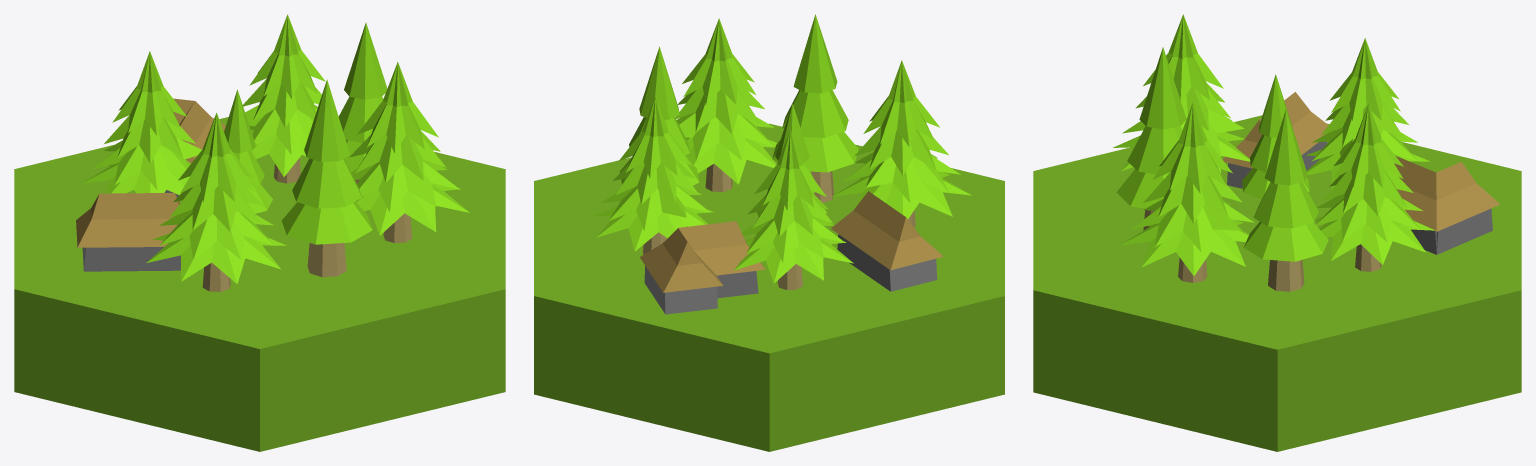
File: Casas_Bosque_Pinos_2.fbx
3 renders of one model, left to right at view 1: azimuth 30°, elevation 25°; view 2: azimuth 150°, elevation 25°; view 3: azimuth 270°, elevation 25°, orthographic. The views are drawn at different scales.
Parts seen in each view (by area): view 1: Casas_Bosque_Pinos_2; view 2: Casas_Bosque_Pinos_2; view 3: Casas_Bosque_Pinos_2.
Boxes of the visible parts, box(x1,y1,x2,y2) form: Casas_Bosque_Pinos_2: box(14, 14, 505, 451); Casas_Bosque_Pinos_2: box(534, 14, 1004, 451); Casas_Bosque_Pinos_2: box(1033, 14, 1521, 451).
Bounding box in the file's own units: 200 × 114 × 173.
